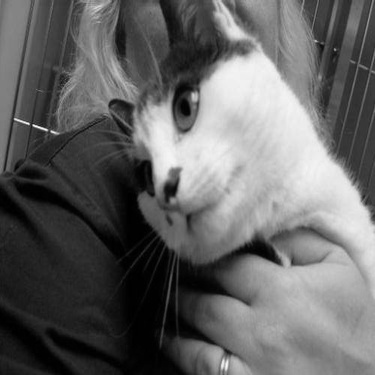cat: (108, 4, 374, 310)
